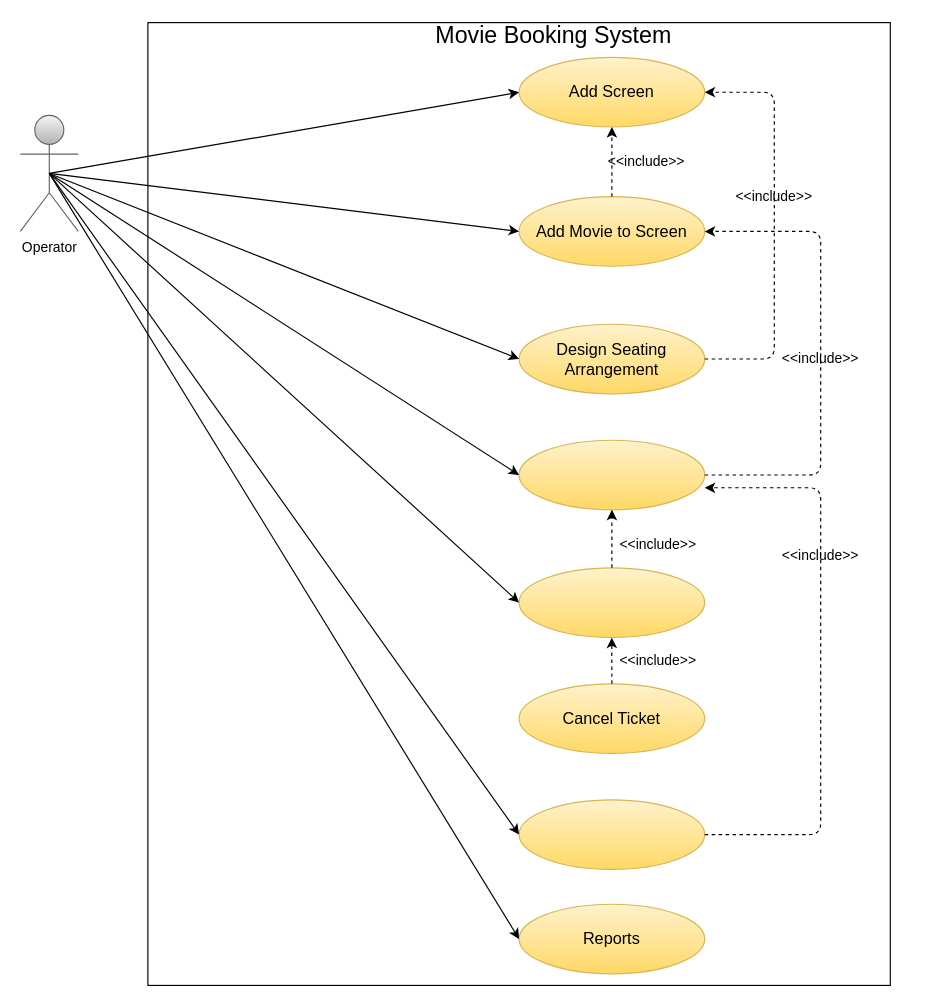
The diagram is 934 pixels wide and 1006 high, and some of its shapes have lost their labels. The shapes that lost their labels are listed below. From the top down, each one's centre as x and y in pixels, then its label:
At (611,474): "Adding Shows".
At (611,602): "Book Ticket".
At (611,834): "Show Availability".
